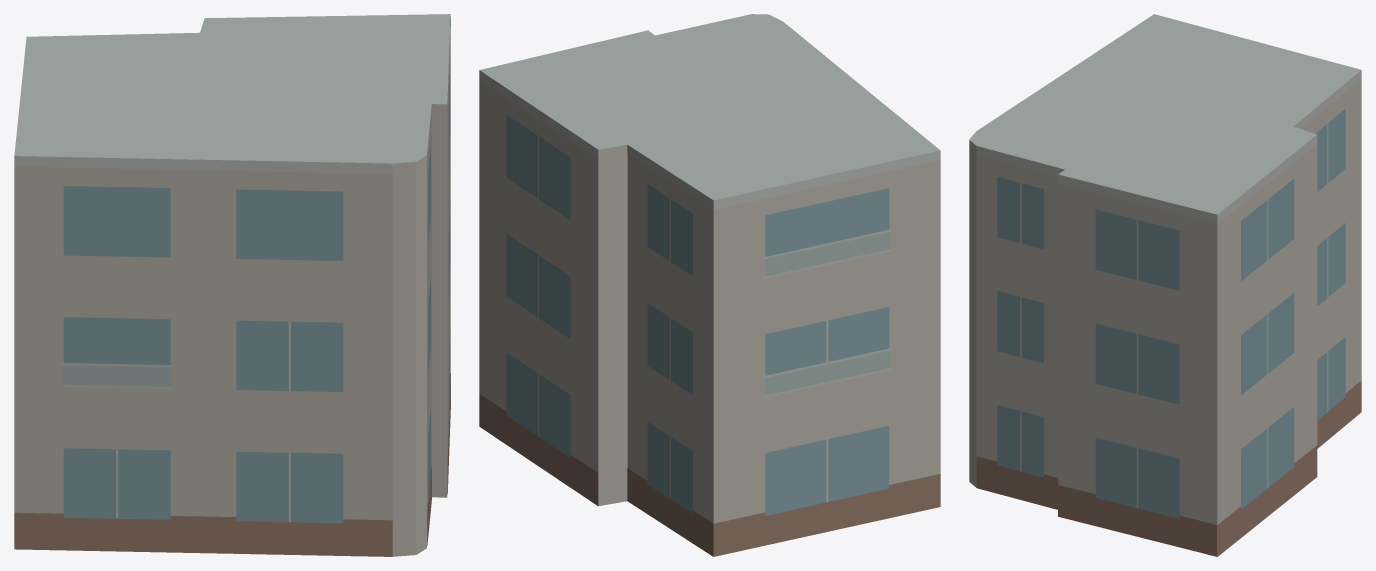
Rendered from survey-upis-32508657.glb.
3 views of the same model, side by side, from view 1: azimuth 30°, elevation 25°; view 2: azimuth 150°, elevation 25°; view 3: azimuth 270°, elevation 25° (orthographic). The views are drawn at different scales.
Parts seen in each view (by area): view 1: survey-upis-32508657.tmp; view 2: survey-upis-32508657.tmp; view 3: survey-upis-32508657.tmp.
Part boxes in pixels (bbox=[...]): survey-upis-32508657.tmp: bbox=[14, 14, 450, 556]; survey-upis-32508657.tmp: bbox=[479, 14, 940, 556]; survey-upis-32508657.tmp: bbox=[969, 14, 1361, 556].
Bounding box in the file's own units: 11.52 × 9.15 × 9.51.
